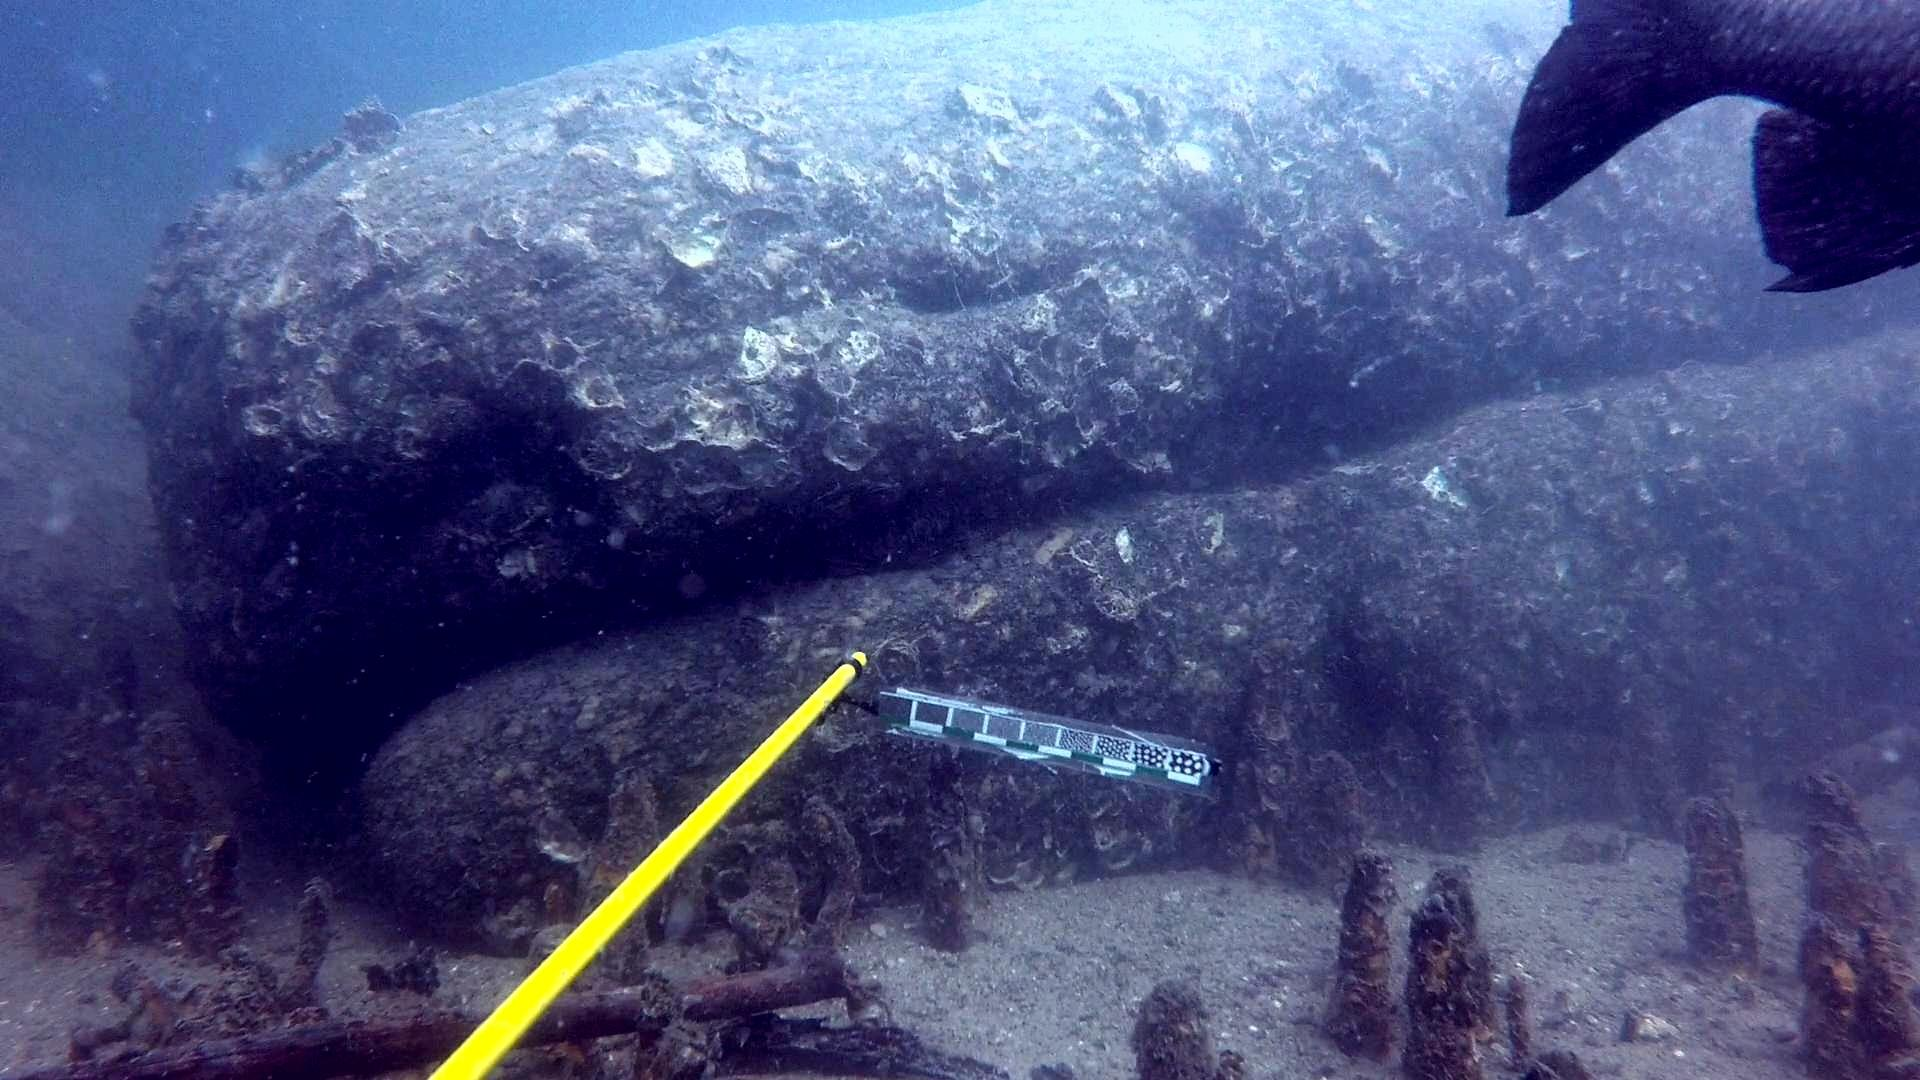acanthopagrus palmaris: (1487, 0, 1920, 305)
